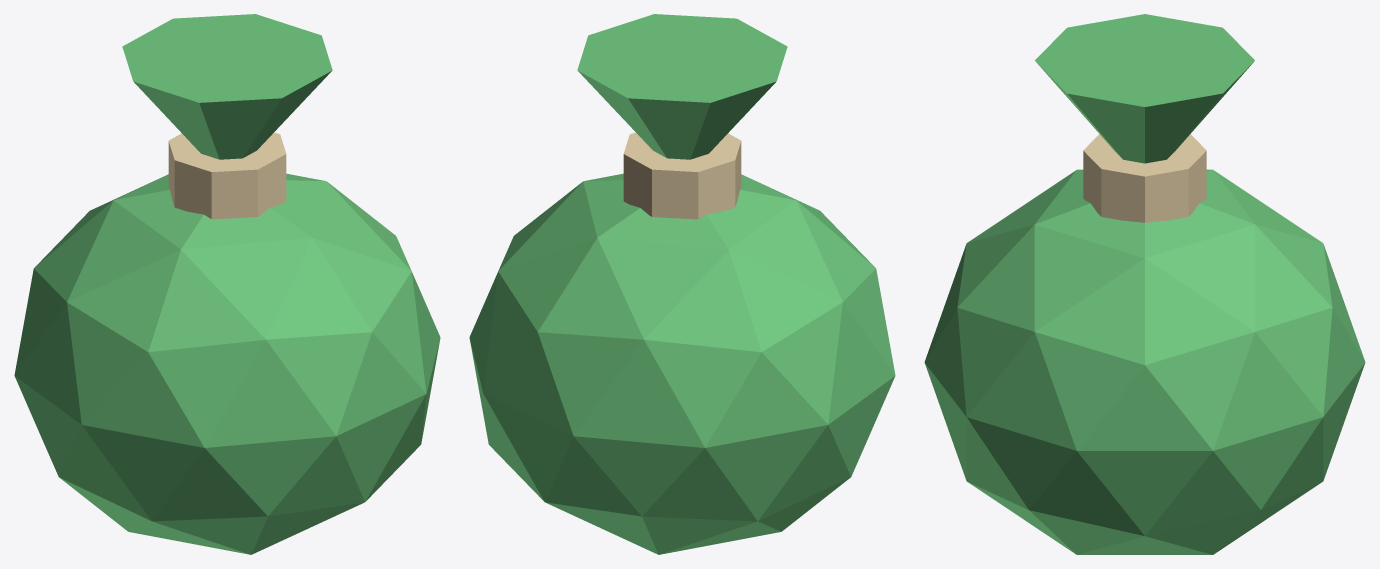
Rendered from MoneyBag.fbx.
The picture shows the model from 3 angles, left to right: view 1: azimuth 30°, elevation 25°; view 2: azimuth 150°, elevation 25°; view 3: azimuth 270°, elevation 25°; orthographic projection.
Parts seen in each view (by area): view 1: MoneyBag; view 2: MoneyBag; view 3: MoneyBag.
Boxes of the visible parts, box(x1,y1,x2,y2) form: MoneyBag: box(14, 14, 440, 554); MoneyBag: box(469, 14, 895, 554); MoneyBag: box(924, 14, 1365, 554).
Bounding box in the file's own units: 95.11 × 121 × 100.
